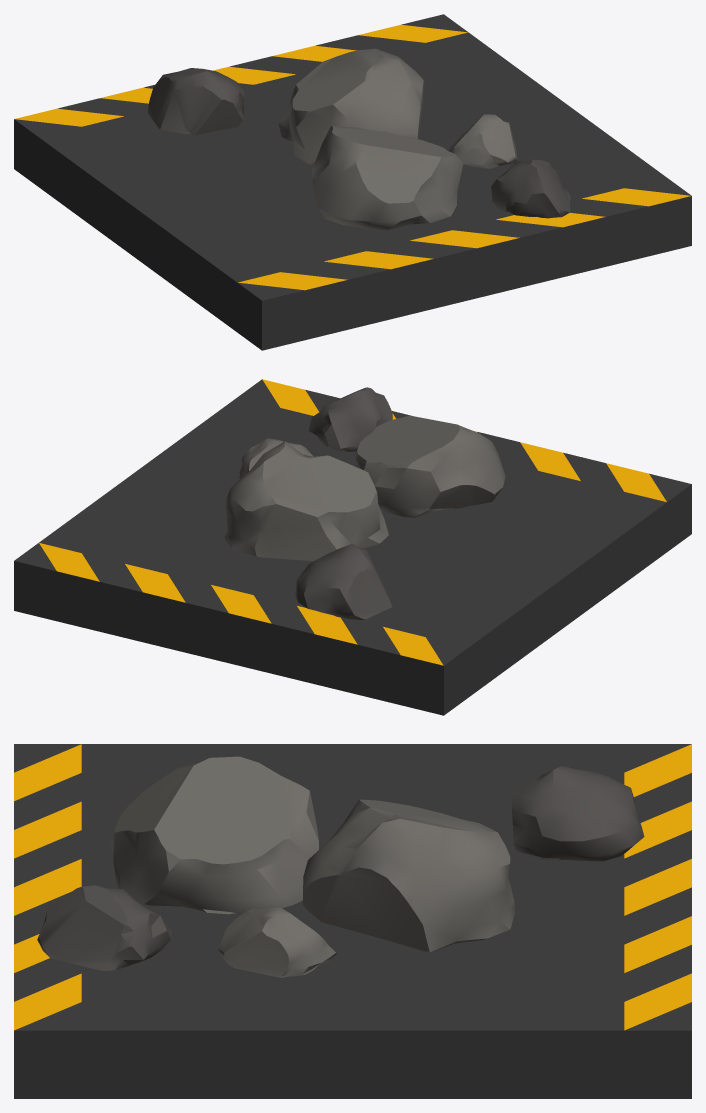
The picture shows the model from 3 angles, top to bottom: view 1: azimuth 30°, elevation 25°; view 2: azimuth 150°, elevation 25°; view 3: azimuth 270°, elevation 25°; orthographic projection. The views are drawn at different scales.
Visible parts, largest first — view 1: rk2; view 2: rk2; view 3: rk2.
Part boxes in pixels (left/top/right/bottom): rk2: left=14, top=14, right=691, bottom=350; rk2: left=14, top=379, right=691, bottom=715; rk2: left=14, top=744, right=691, bottom=1098.
Size of the model in its own units: 9 by 2.51 by 9.
